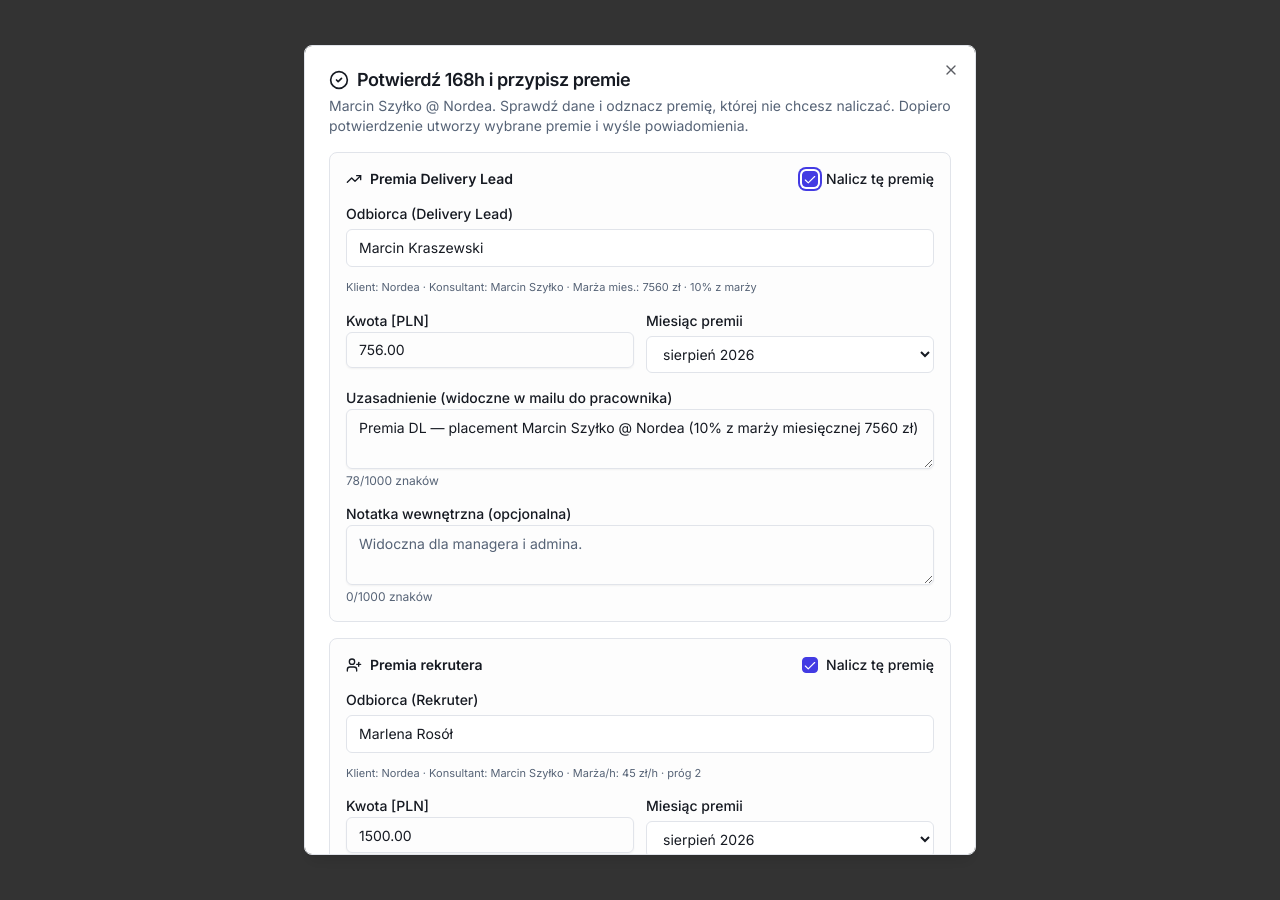
Test: <PlacementConfirmDialog /> bonus selection › blocks confirmation when both bonuses are deselected
The image size is (1280, 900).
Step 1. Click the checkbox named "Premia Delivery Lead" → {"x": 810, "y": 179}, box [802, 171, 818, 187]
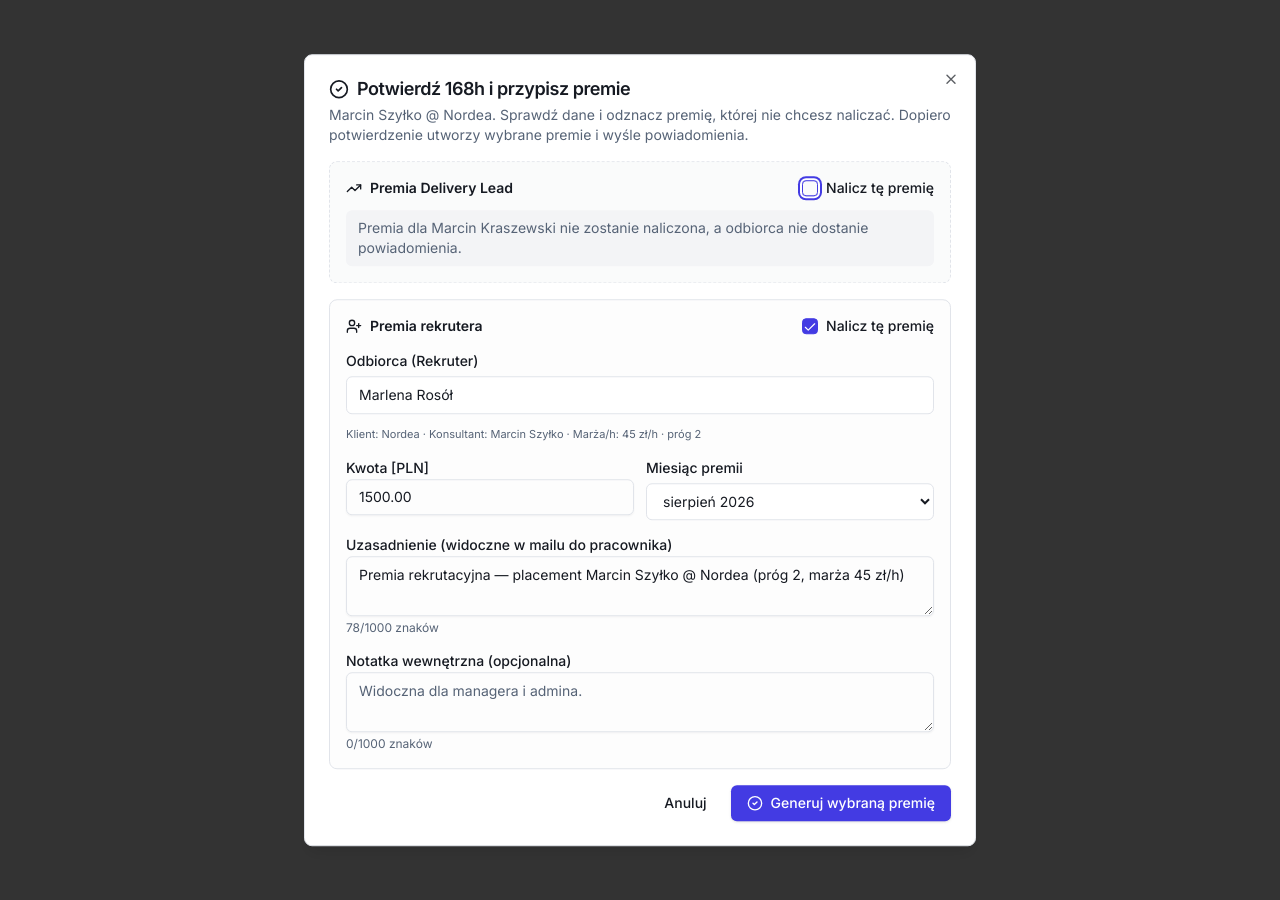
Step 2. Click the checkbox named "Premia rekrutera" → {"x": 810, "y": 326}, box [802, 318, 818, 334]
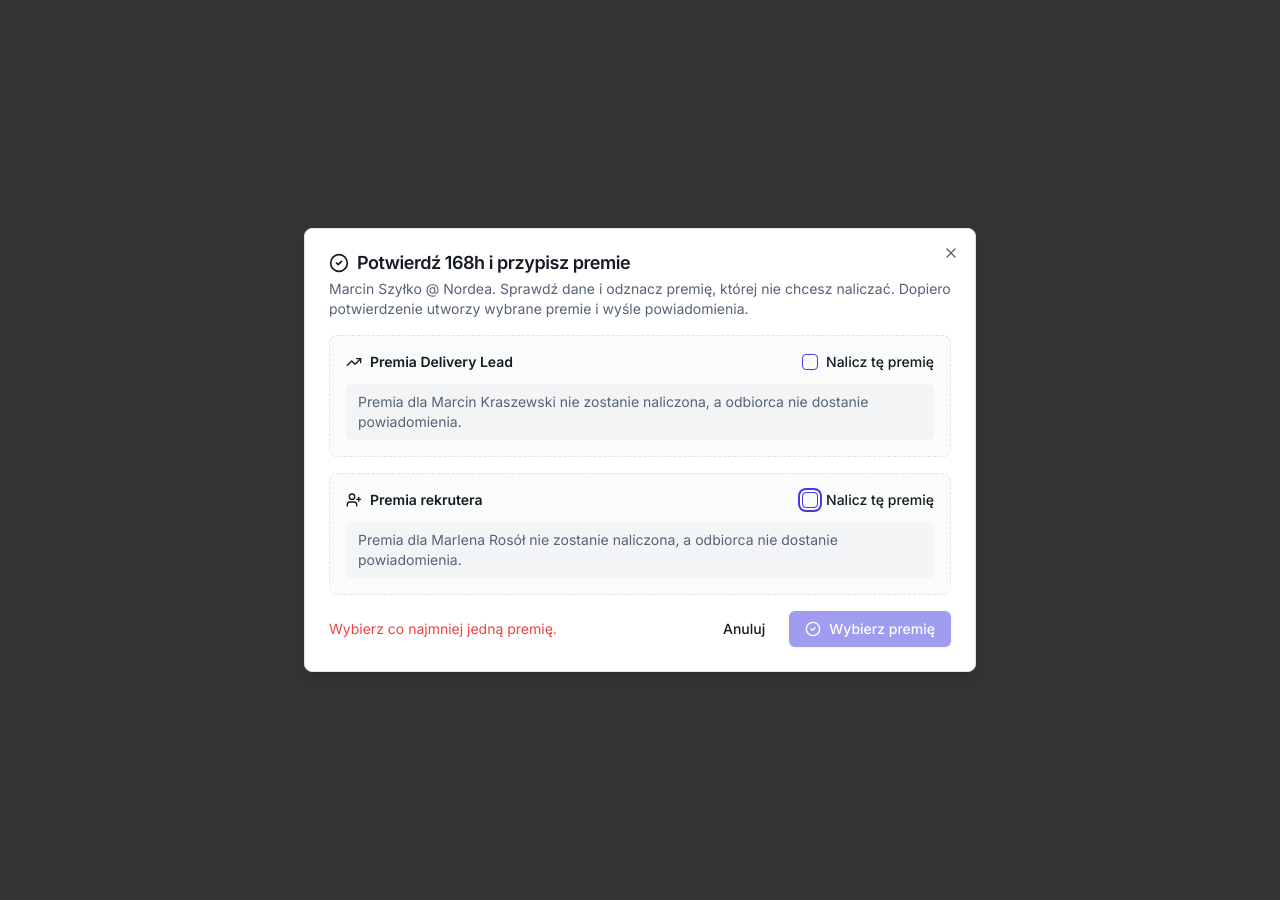
Check: the message "Wybierz co najmniej jedną premię." is shown, box [329, 619, 557, 639]
Check: the button "Wybierz premię" is disabled, box [789, 611, 951, 647]
